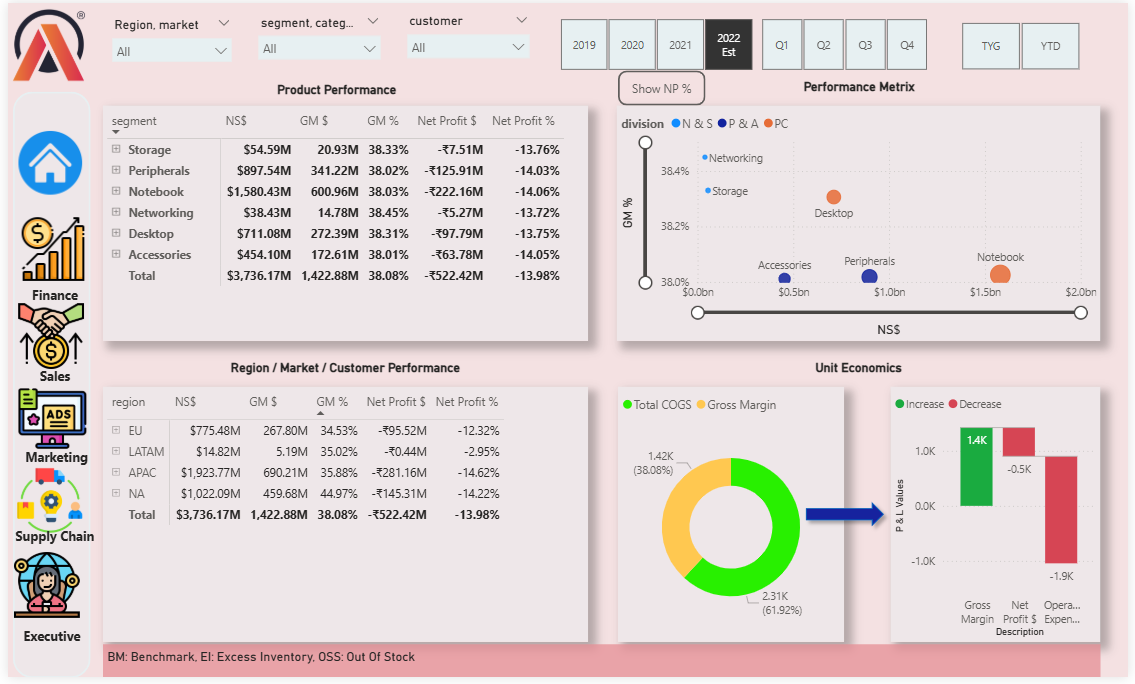

The dashboard page shown, as its layout file describes it:
{"tool":"powerbi","page":{"name":"Marketing View","canvas":[1280,771],"ordinal":3},"visuals":[{"type":"slicer","fields":{"Values":["fiscal_year.fy_desc"]},"box":[605.7,11.4,268.6,71.4],"z":0},{"type":"scatterChart","title":"GM % Visual","fields":{"Category":["dim_product.segment","dim_product.category","dim_product.product"],"X":["Key Measure.NS$"],"Size":["Key Measure.NS$"],"Series":["dim_product.division"],"Y":["Key Measure.GM %"]},"box":[695.7,117.1,552.9,268.6],"z":0,"group":"g1"},{"type":"slicer","fields":{"Values":["dim_date.quarters"]},"box":[835.7,11.4,238.6,71.4],"z":1000},{"type":"actionButton","title":"NP % Button","box":[697.1,77.1,100,40],"z":1000,"group":"g1"},{"type":"slicer","fields":{"Values":["dim_date.ytd_ytg"]},"box":[1064.3,15.7,184.3,67.1],"z":2000},{"type":"textbox","box":[88.6,84.3,574.3,35.7],"z":3000},{"type":"slicer","fields":{"Values":["dim_market.region","dim_market.market"]},"box":[108.6,11.4,157.1,62.9],"z":4000},{"type":"slicer","fields":{"Values":["dim_customer.customer"]},"box":[445.7,7.1,160,67.1],"z":5000},{"type":"slicer","fields":{"Values":["dim_product.segment","dim_product.category","dim_product.product"]},"box":[275.7,8.6,160,67.1],"z":6000},{"type":"image","box":[0,0,95.7,95.7],"z":7000},{"type":"shape","box":[5.7,101.4,88.6,670],"z":8000},{"type":"image","box":[10,240,84.3,82.9],"z":9000},{"type":"image","box":[5.7,337.1,87.1,87.1],"z":10000},{"type":"image","box":[7.1,428.6,87.1,92.9],"z":11000},{"type":"image","box":[5.7,525.7,84.3,85.7],"z":12000},{"type":"image","box":[0,621.4,88.6,87.1],"z":13000},{"type":"image","box":[7.1,141.4,82.9,82.9],"z":14000},{"type":"pivotTable","fields":{"Rows":["dim_product.segment","dim_product.category","dim_product.product"],"Values":["Key Measure.NS$","Key Measure.GM $","Key Measure.GM %","Key Measure.Net Profit $","Key Measure.Net Profit %"]},"box":[108.6,117.1,554.3,268.6],"z":15000},{"type":"donutChart","fields":{"Category":["P & L Rows.Description"],"Y":["Key Measure.P & L Values"]},"box":[697.1,438.6,258.6,291.4],"z":16000},{"type":"shape","box":[902.9,561.4,107.1,45.7],"z":17000},{"type":"waterfallChart","fields":{"Category":["P & L Rows.Description"],"Y":["Key Measure.P & L Values"]},"box":[1008.6,438.6,240,291.4],"z":18000},{"type":"pivotTable","fields":{"Rows":["dim_market.region","dim_market.market"],"Values":["Key Measure.NS$","Key Measure.GM $","Key Measure.GM %","Key Measure.Net Profit $","Key Measure.Net Profit %"]},"box":[108.6,438.6,554.3,291.4],"z":19000},{"type":"textbox","box":[697.1,81.4,551.4,35.7],"z":20000},{"type":"textbox","box":[108.6,402.9,554.3,35.7],"z":21000},{"type":"textbox","box":[695.7,402.9,552.9,35.7],"z":22000},{"type":"group","id":"g1","title":"GM % Group","box":[695.7,77.1,552.9,308.6],"z":24000},{"type":"textbox","box":[108.6,732.9,1140,38.6],"z":25000},{"type":"textbox","box":[0,318.6,111.4,35.7],"z":26000},{"type":"textbox","box":[0,411.4,111.4,34.3],"z":27000},{"type":"textbox","box":[0,504,111,35],"z":28000},{"type":"textbox","box":[0,594,111,48],"z":29000},{"type":"textbox","box":[0,708.6,108.6,50],"z":30000}]}

Visuals, with their boxes in screenshot pixels (x1, y1, x2, y2), scaled from the page's 1280x771 canvas onto the 1135x684 screenshot:
slicer - fiscal_year.fy_desc: [left=537, top=10, right=775, bottom=73]
"GM % Visual" scatterChart: [left=617, top=104, right=1107, bottom=342]
slicer - dim_date.quarters: [left=741, top=10, right=953, bottom=73]
"NP % Button" actionButton: [left=618, top=68, right=707, bottom=104]
slicer - dim_date.ytd_ytg: [left=944, top=14, right=1107, bottom=73]
textbox: [left=79, top=75, right=588, bottom=106]
slicer - dim_market.region x dim_market.market: [left=96, top=10, right=236, bottom=66]
slicer - dim_customer.customer: [left=395, top=6, right=537, bottom=66]
slicer - dim_product.segment x dim_product.category: [left=244, top=8, right=386, bottom=67]
image: [left=0, top=0, right=85, bottom=85]
shape: [left=5, top=90, right=84, bottom=683]
image: [left=9, top=213, right=84, bottom=286]
image: [left=5, top=299, right=82, bottom=376]
image: [left=6, top=380, right=84, bottom=463]
image: [left=5, top=466, right=80, bottom=542]
image: [left=0, top=551, right=79, bottom=629]
image: [left=6, top=125, right=80, bottom=199]
pivotTable - dim_product.segment x dim_product.category: [left=96, top=104, right=588, bottom=342]
donutChart - P & L Rows.Description x Key Measure.P & L Values: [left=618, top=389, right=847, bottom=648]
shape: [left=801, top=498, right=896, bottom=539]
waterfallChart - P & L Rows.Description x Key Measure.P & L Values: [left=894, top=389, right=1107, bottom=648]
pivotTable - dim_market.region x dim_market.market: [left=96, top=389, right=588, bottom=648]
textbox: [left=618, top=72, right=1107, bottom=104]
textbox: [left=96, top=357, right=588, bottom=389]
textbox: [left=617, top=357, right=1107, bottom=389]
"GM % Group" group: [left=617, top=68, right=1107, bottom=342]
textbox: [left=96, top=650, right=1107, bottom=683]
textbox: [left=0, top=283, right=99, bottom=314]
textbox: [left=0, top=365, right=99, bottom=395]
textbox: [left=0, top=447, right=98, bottom=478]
textbox: [left=0, top=527, right=98, bottom=570]
textbox: [left=0, top=629, right=96, bottom=673]
